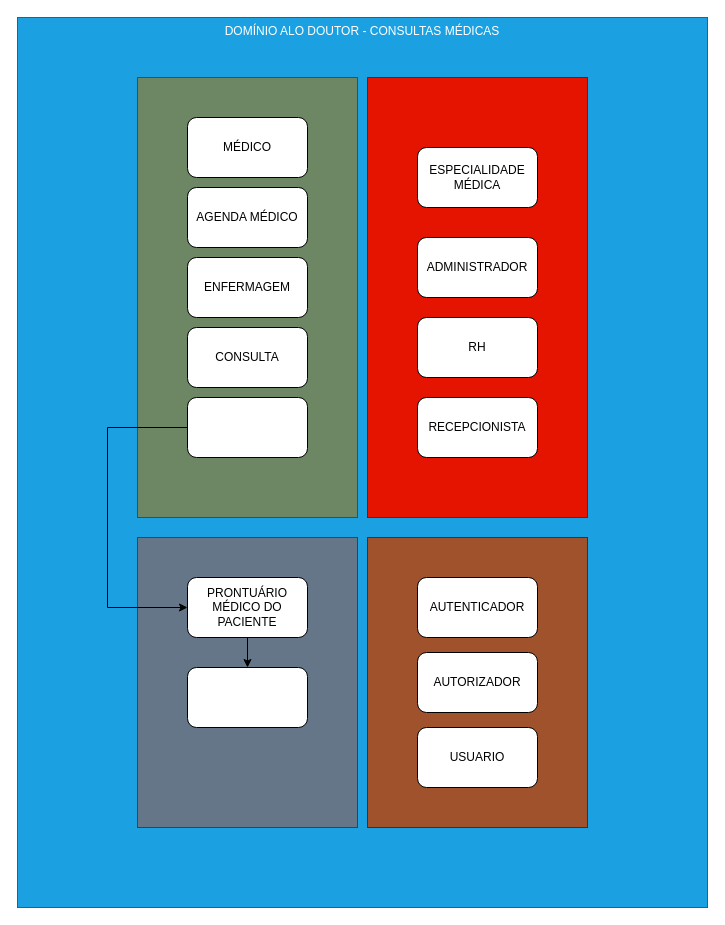
Some shapes in this 725 by 925 pixel diagram are drawn without their labels. Each missing label, with the box of its shape:
AGREGADOS: (136, 536, 358, 828)
PACIENTE: (186, 396, 308, 458)
REGISTROS DE CONSULTAS: (186, 666, 308, 728)
SUBDOMÍNIO GENÉRICO: (366, 536, 588, 828)
SUBDOMÍNIOS PRINCIPAIS: (136, 76, 358, 518)
SUBDOMÍNIOS SUPORTE: (366, 76, 588, 518)
